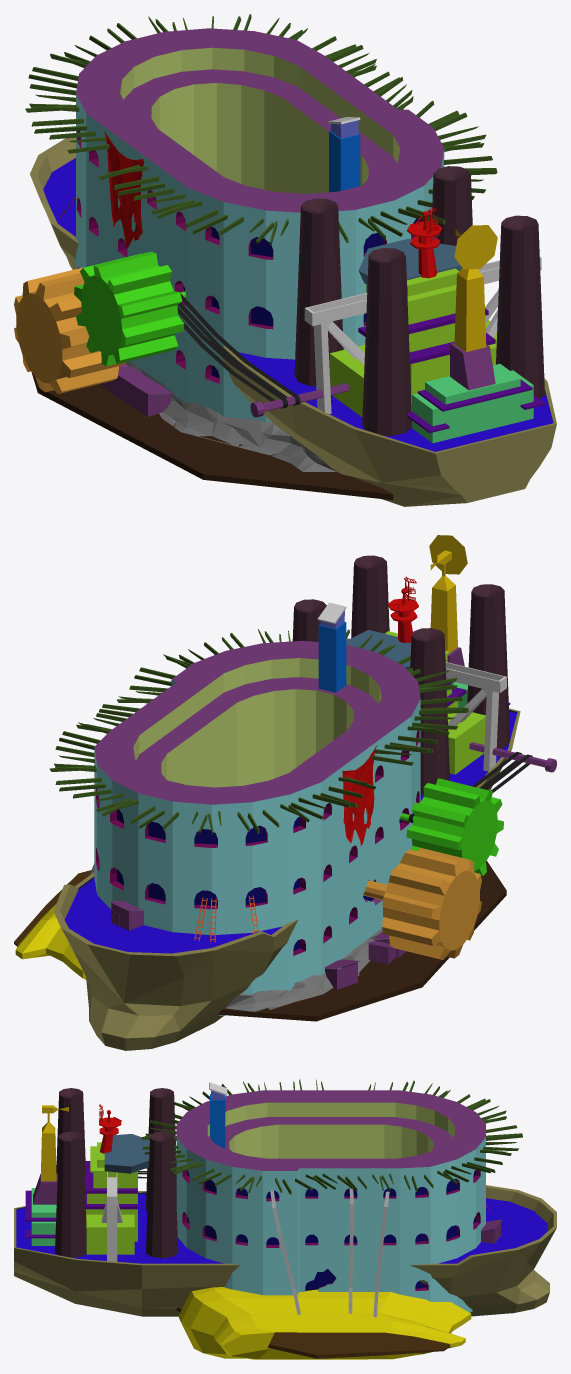
File: FlotingFortress 1.fbx
The picture shows the model from 3 angles, top to bottom: view 1: azimuth 30°, elevation 25°; view 2: azimuth 150°, elevation 25°; view 3: azimuth 270°, elevation 25°; orthographic projection. The views are drawn at different scales.
Parts seen in each view (by area): view 1: FloatingFortress; view 2: FloatingFortress; view 3: FloatingFortress.
Part boxes in pixels (bbox=[...]): FloatingFortress: bbox=[14, 14, 556, 506]; FloatingFortress: bbox=[14, 535, 556, 1050]; FloatingFortress: bbox=[14, 1079, 556, 1359].
Size of the model in its own units: 17 by 12.88 by 27.21.
